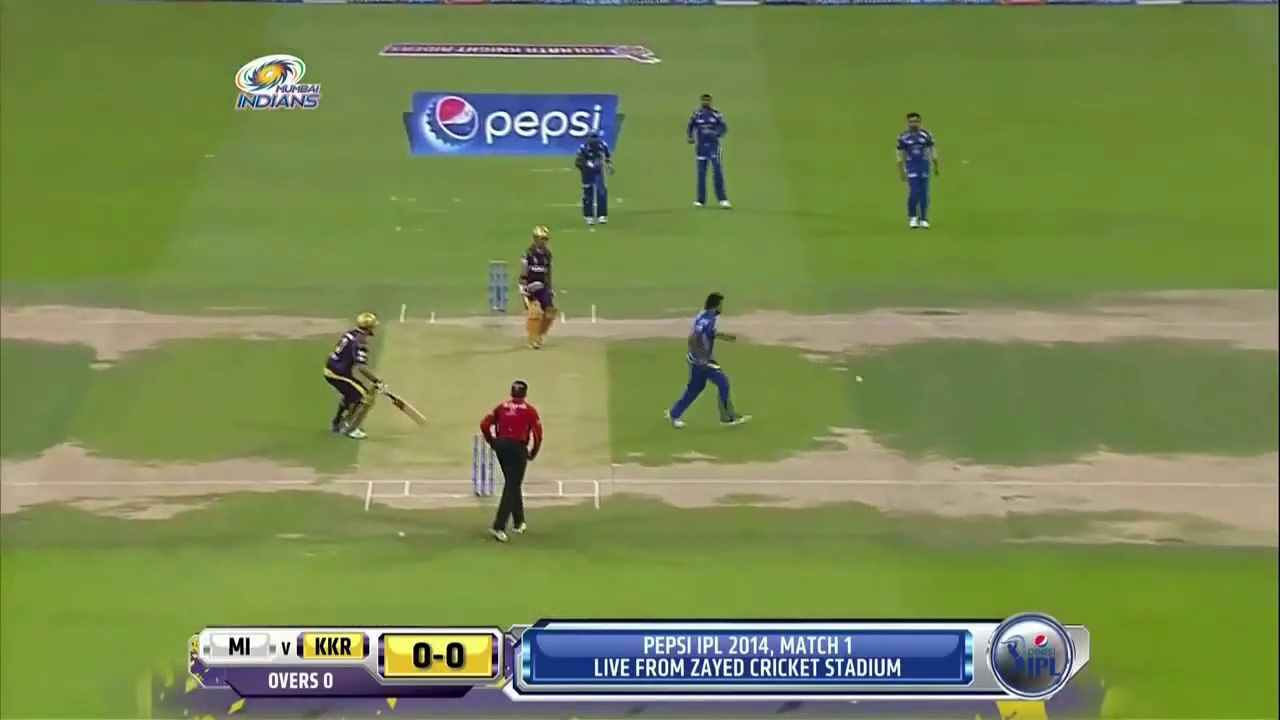bat: (387, 393, 427, 425)
